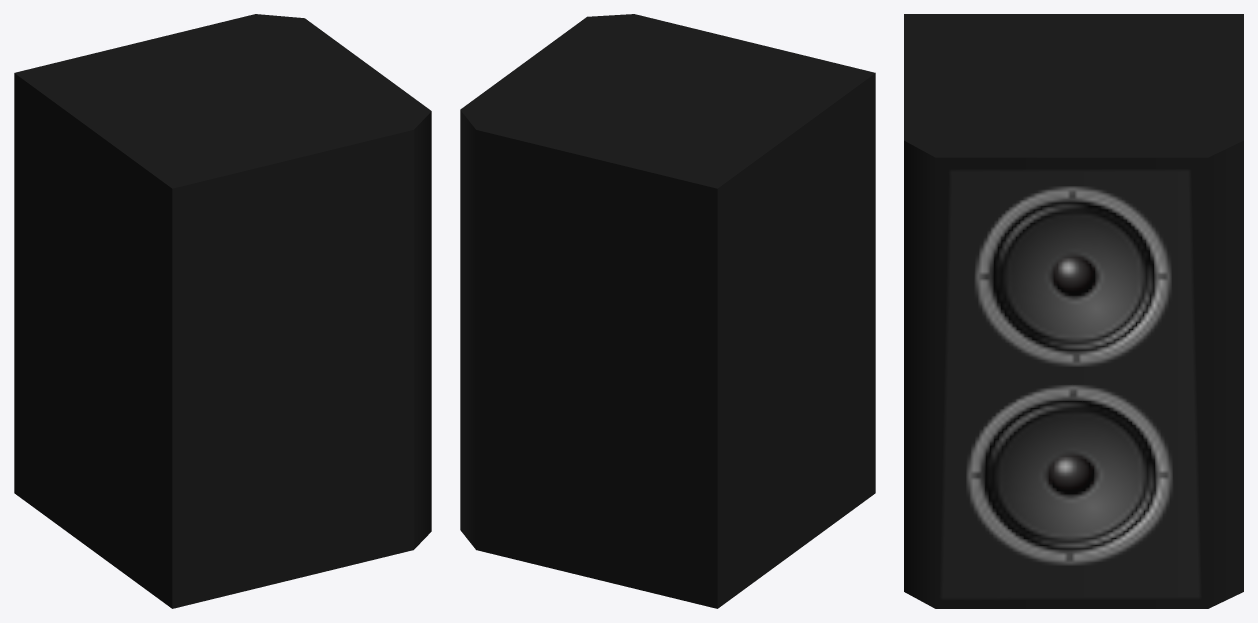
Rendered from Speaker_mesh.fbx.
3 views of the same model, side by side, from view 1: azimuth 30°, elevation 25°; view 2: azimuth 150°, elevation 25°; view 3: azimuth 270°, elevation 25° (orthographic). The views are drawn at different scales.
Visible parts, largest first — view 1: pCube1; view 2: pCube1; view 3: pCube1.
Part boxes in pixels (x1,y1,x2,y2): pCube1: (14, 14, 431, 608); pCube1: (460, 14, 875, 608); pCube1: (904, 14, 1243, 608).
Size of the model in its own units: 178 by 261 by 178.
